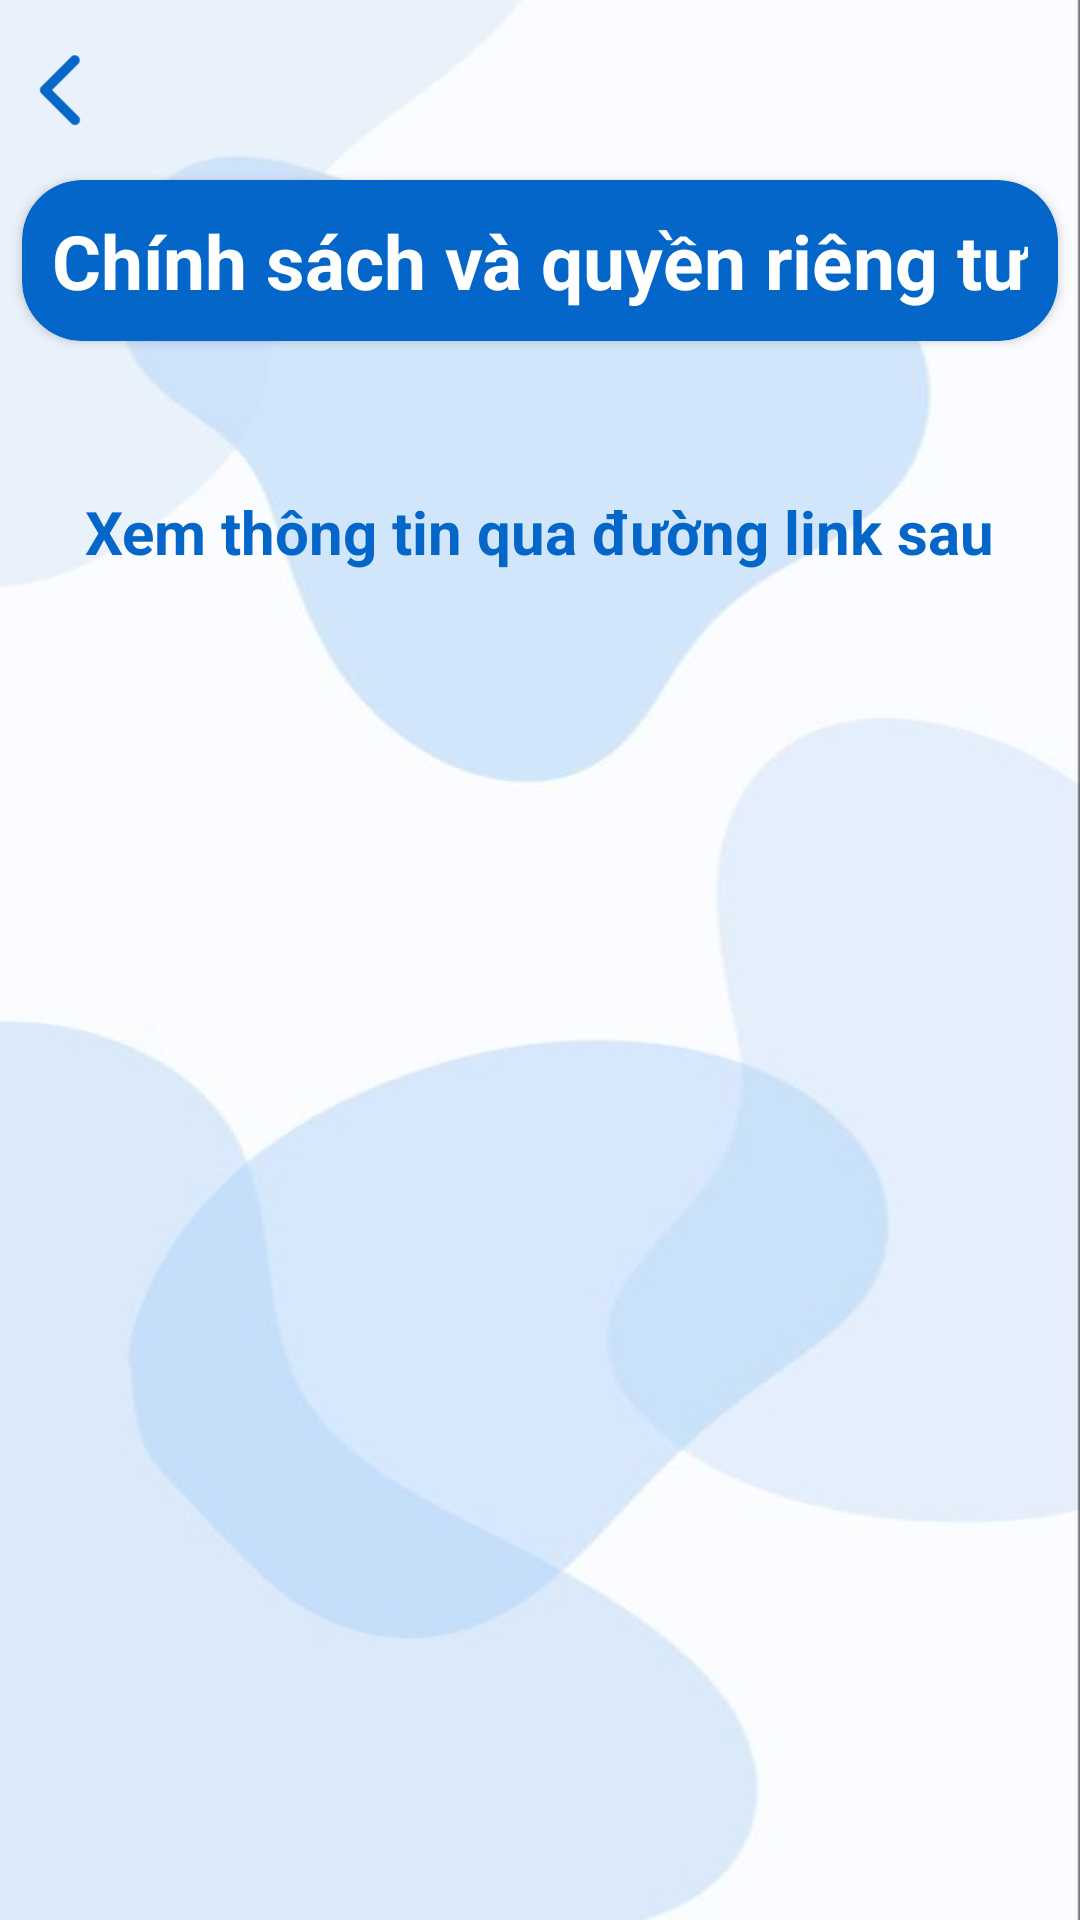

Screen size 1080px×1920px. Icon name, then its center in pixels as [x,y]:
back nhi: [60,90]
